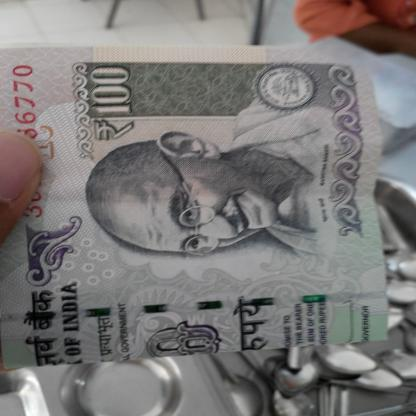Old100Front: (0, 44, 392, 368)
